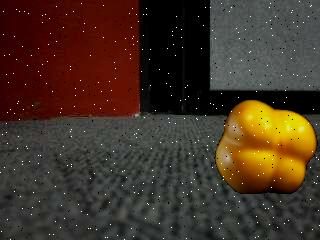Capsicum: (215, 100, 317, 198)
